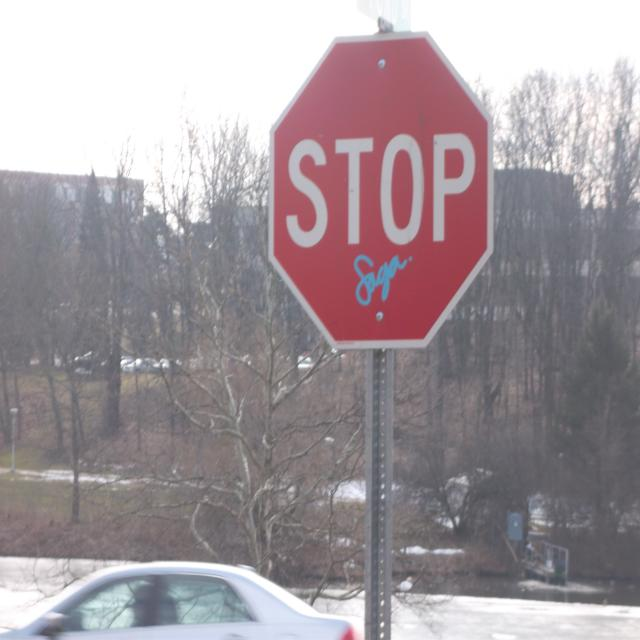stop: (263, 30, 498, 351)
